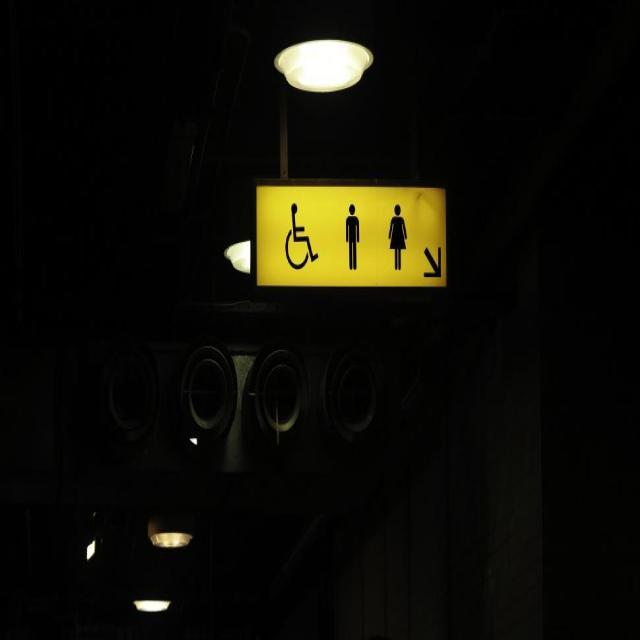toilet_icon: (267, 184, 416, 284)
